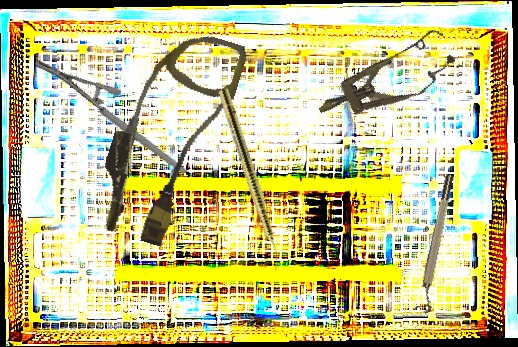Cannula: (86, 17, 250, 255)
Fixation Ring: (412, 173, 462, 315)
Handpiece: (215, 87, 288, 273)
Needle Holder: (32, 25, 188, 210)
Speculum: (307, 24, 463, 136)
